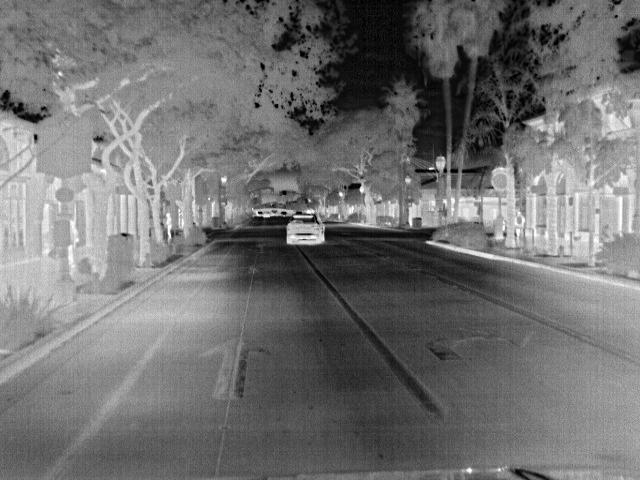car: (284, 212, 327, 246)
person: (515, 207, 528, 238), (163, 211, 176, 242)
